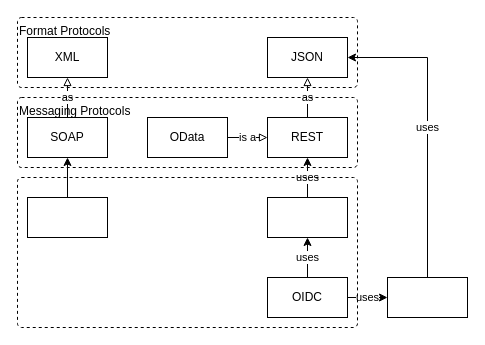
This 485x345 diagram has some shape labels left out. Each missing label, with the box of its shape:
Authorisation Protocols: (16, 176, 358, 328)
JWT: (386, 276, 468, 318)
OAuth2: (266, 196, 348, 238)
SAML: (26, 196, 108, 238)
